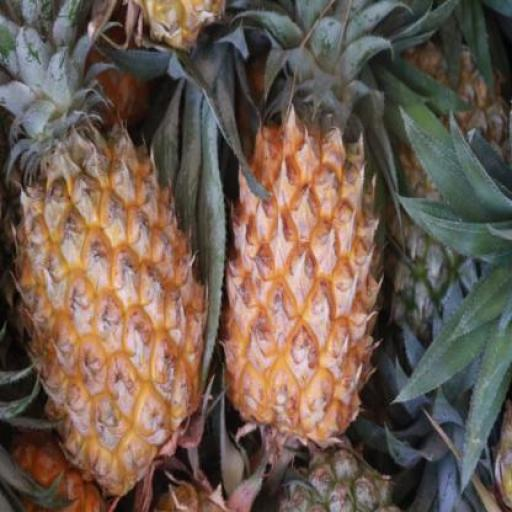Pineapple - v8 v1: (11, 115, 202, 497), (222, 110, 376, 452)
